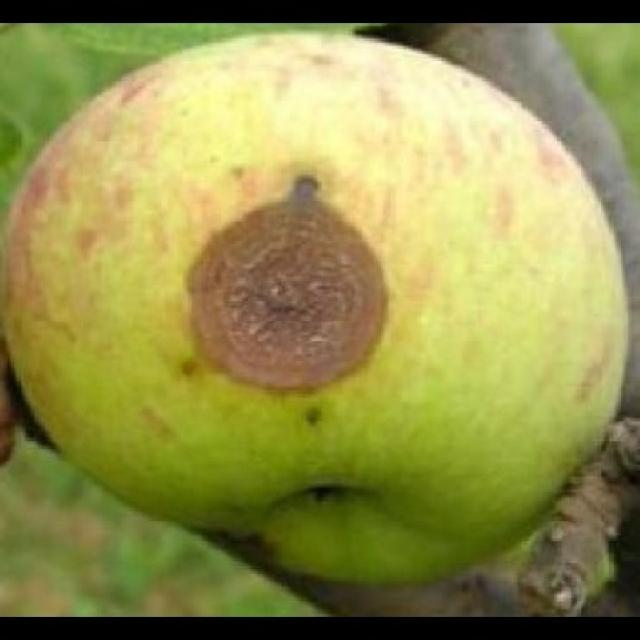Rotten Apple: (2, 30, 630, 588)
